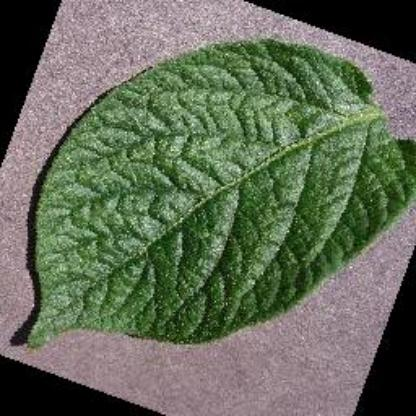Healthy-plant: (21, 34, 415, 368)
